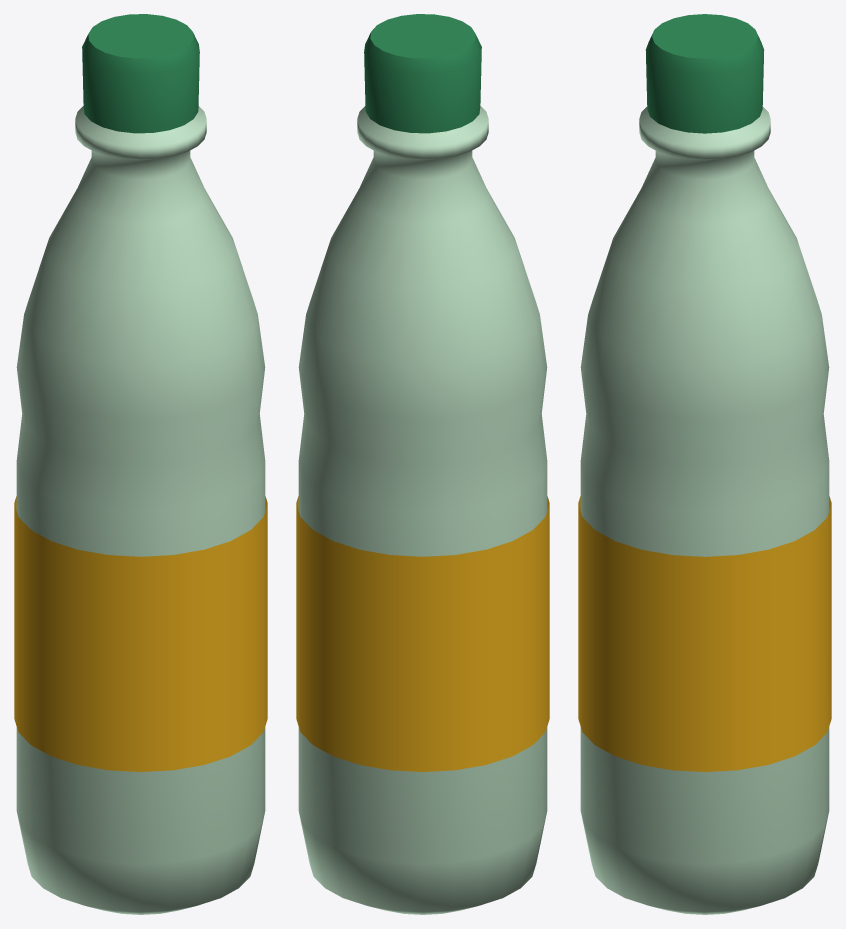
The model's file is item_pet_green.fbx.
3 views of the same model, side by side, from view 1: azimuth 30°, elevation 25°; view 2: azimuth 150°, elevation 25°; view 3: azimuth 270°, elevation 25° (orthographic).
Visible parts, largest first — view 1: item_pet_green; view 2: item_pet_green; view 3: item_pet_green.
Boxes of the visible parts, <box> form: item_pet_green: <box>14,14,267,914</box>; item_pet_green: <box>296,14,549,914</box>; item_pet_green: <box>578,14,831,914</box>.
Bounding box in the file's own units: 0.0694 × 0.256 × 0.0694.
